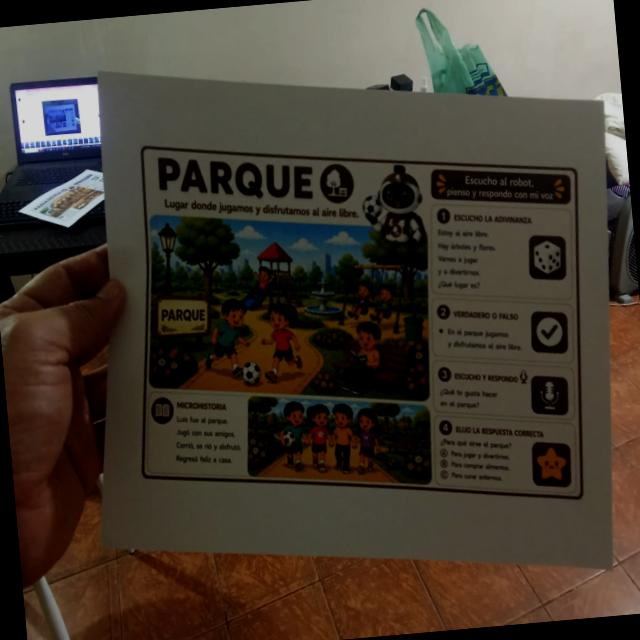parque: (109, 102, 610, 543)
